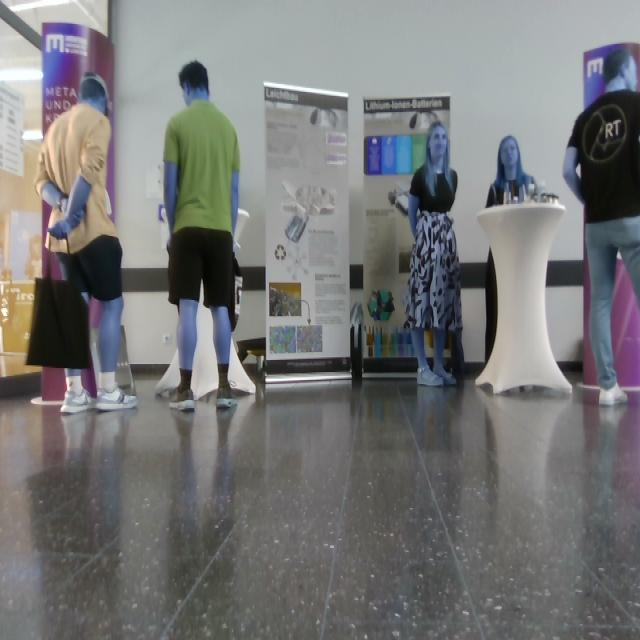door: (263, 81, 354, 384)
light bulb: (282, 180, 337, 244), (368, 289, 395, 321), (233, 208, 250, 250), (388, 186, 410, 217), (285, 215, 308, 243), (310, 108, 338, 128), (409, 112, 438, 130)
person: (34, 72, 139, 414), (562, 49, 640, 408), (163, 60, 242, 412), (404, 121, 464, 388), (483, 136, 538, 366)
tiled floor: (1, 366, 640, 640)
